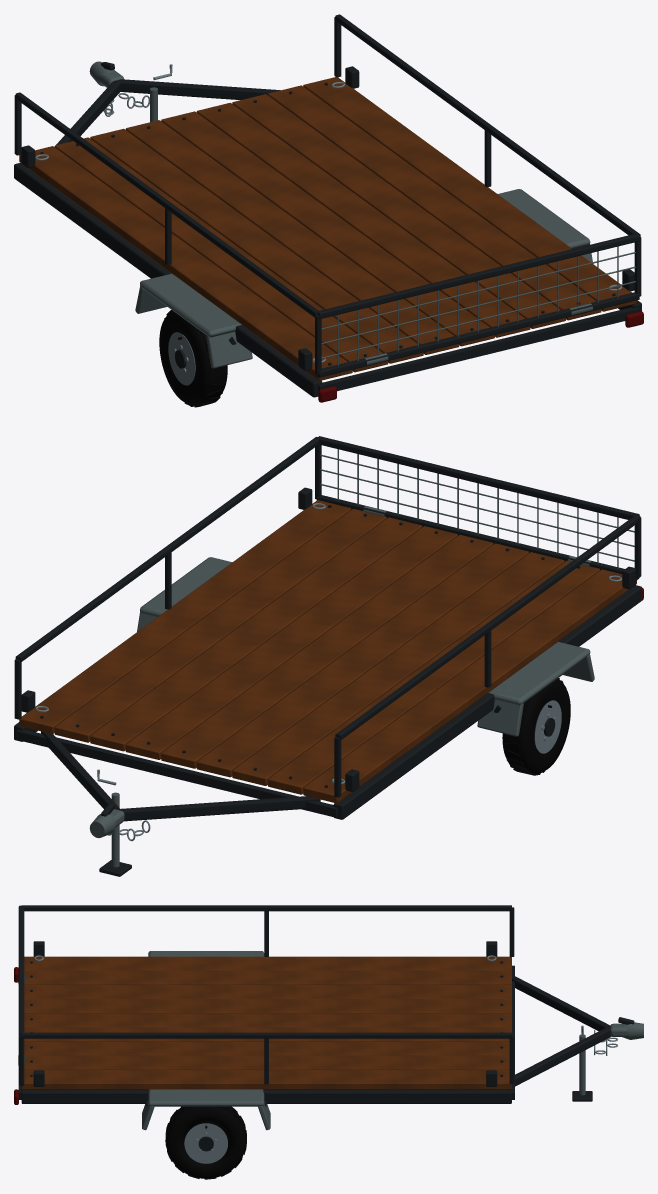
The model's file is UtilityTrailer.gltf.
3 renders of one model, top to bottom at view 1: azimuth 30°, elevation 25°; view 2: azimuth 150°, elevation 25°; view 3: azimuth 270°, elevation 25°, orthographic. The views are drawn at different scales.
Parts seen in each view (by area): view 1: UtilityTrailer__Body, UtilityTrailer__Ramp, UtilityTrailer; view 2: UtilityTrailer__Body, UtilityTrailer__Ramp, UtilityTrailer; view 3: UtilityTrailer__Body, UtilityTrailer, UtilityTrailer__Ramp.
Boxes of the visible parts, x1,y1,x2,y2 form: UtilityTrailer__Body: (14,14,643,402); UtilityTrailer__Ramp: (316,233,639,377); UtilityTrailer: (159,310,227,407); UtilityTrailer__Body: (14,437,643,876); UtilityTrailer__Ramp: (316,436,639,580); UtilityTrailer: (502,678,570,775); UtilityTrailer__Body: (14,905,643,1130); UtilityTrailer: (165,1106,246,1179); UtilityTrailer__Ramp: (18,905,24,1085).
Bounding box in the file's own units: 1.99 × 0.8442 × 3.47.
1 material, 1 textured.
